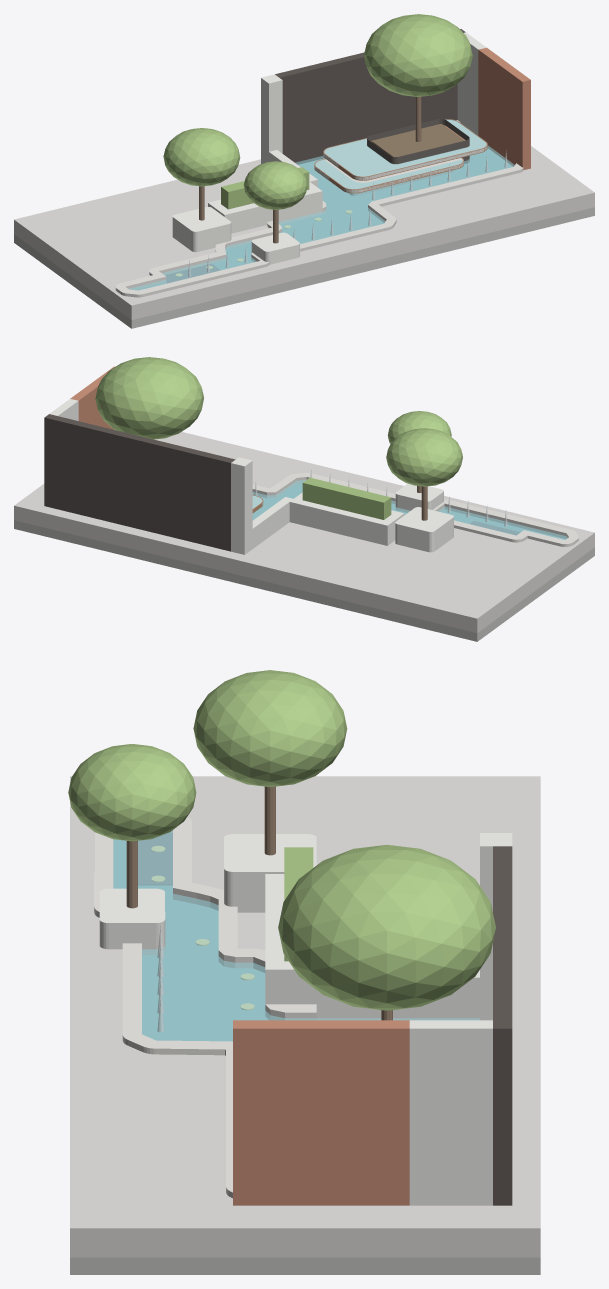
Rendered from water_feature_v02.glb.
The picture shows the model from 3 angles, top to bottom: view 1: azimuth 30°, elevation 25°; view 2: azimuth 150°, elevation 25°; view 3: azimuth 270°, elevation 25°; orthographic projection. The views are drawn at different scales.
Parts seen in each view (by area): view 1: Paving deck FFL+15.25, Feature wall (north) TOW 18.30, Water WL+15.25, Feature tree in planter canopy, Pool base (granite slab on frames), Structural slab, East wall (brick clad), Tree (north planter) canopy, Granite coping / kerb TOK+15.35_0, Upper cascade tray TOW+15.70, West planter wall + hedge planter, Tree (south planter) canopy (+14 smaller); view 2: Paving deck FFL+15.25, Feature wall (north) TOW 18.30, Feature tree in planter canopy, Structural slab, West planter wall + hedge planter, Tree (north planter) canopy, Granite coping / kerb TOK+15.35_0, Hedge (indicative), Pier NW, Tree planter (north), Water WL+15.25, Granite coping / kerb TOK+15.35_1 (+5 smaller); view 3: Paving deck FFL+15.25, East wall (brick clad), Feature tree in planter canopy, Water WL+15.25, Pier NE, Tree (north planter) canopy, Pool base (granite slab on frames), Tree (south planter) canopy, Structural slab, Feature wall (north) TOW 18.30, West planter wall + hedge planter, Granite coping / kerb TOK+15.35_0 (+9 smaller).
Boxes of the visible parts, <box> form: Paving deck FFL+15.25: <box>14,146,594,319</box>; Feature wall (north) TOW 18.30: <box>275,29,465,164</box>; Water WL+15.25: <box>129,145,514,290</box>; Feature tree in planter canopy: <box>364,14,472,96</box>; Pool base (granite slab on frames): <box>135,148,512,290</box>; Structural slab: <box>14,207,594,328</box>; East wall (brick clad): <box>478,47,530,169</box>; Tree (north planter) canopy: <box>163,128,240,186</box>; Granite coping / kerb TOK+15.35_0: <box>115,220,282,297</box>; Upper cascade tray TOW+15.70: <box>323,120,487,180</box>; West planter wall + hedge planter: <box>208,150,322,233</box>; Tree (south planter) canopy: <box>243,161,307,209</box>; Paving deck FFL+15.25: <box>14,432,594,632</box>; Feature wall (north) TOW 18.30: <box>44,414,235,551</box>; Feature tree in planter canopy: <box>95,357,203,439</box>; Structural slab: <box>14,520,594,641</box>; West planter wall + hedge planter: <box>252,492,404,548</box>; Tree (north planter) canopy: <box>386,428,462,486</box>; Granite coping / kerb TOK+15.35_0: <box>432,499,578,546</box>; Hedge (indicative): <box>302,477,391,519</box>; Pier NW: <box>231,457,252,554</box>; Tree planter (north): <box>395,507,453,552</box>; Water WL+15.25: <box>252,479,567,539</box>; Granite coping / kerb TOK+15.35_1: <box>252,472,395,503</box>; Paving deck FFL+15.25: <box>70,776,540,1257</box>; East wall (brick clad): <box>233,1020,409,1205</box>; Feature tree in planter canopy: <box>278,844,495,1010</box>; Water WL+15.25: <box>113,830,479,1041</box>; Pier NE: <box>409,1020,492,1205</box>; Tree (north planter) canopy: <box>193,670,347,787</box>; Pool base (granite slab on frames): <box>113,839,268,1041</box>; Tree (south planter) canopy: <box>68,744,196,841</box>; Structural slab: <box>70,832,540,1274</box>; Feature wall (north) TOW 18.30: <box>493,846,512,1205</box>; West planter wall + hedge planter: <box>265,874,479,1020</box>; Granite coping / kerb TOK+15.35_0: <box>94,817,265,972</box>.
Size of the model in its own units: 16.69 by 5.53 by 7.37.
